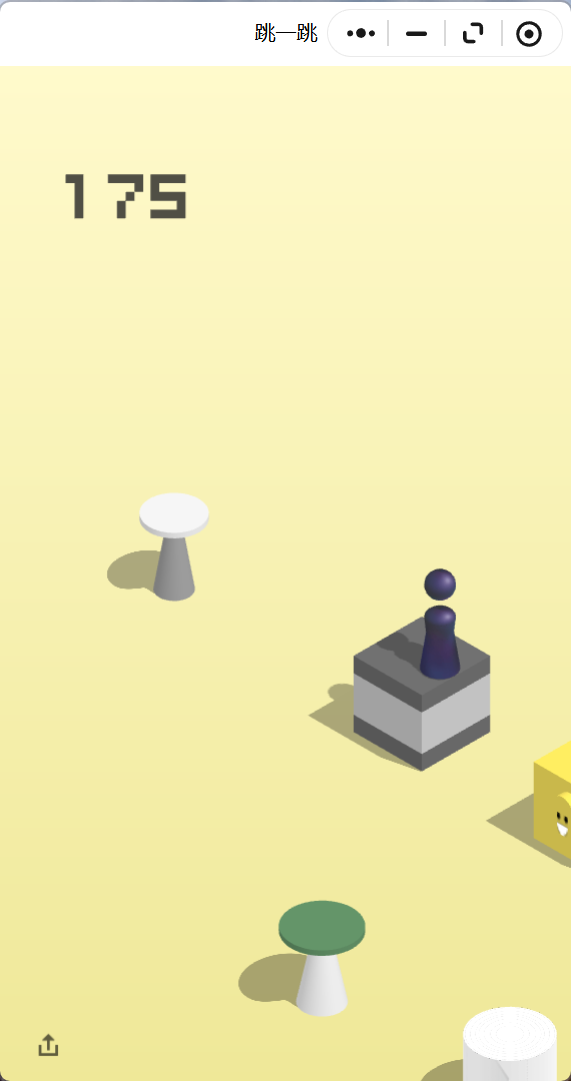piece: (425, 569, 455, 675)
target: (139, 493, 209, 533)
